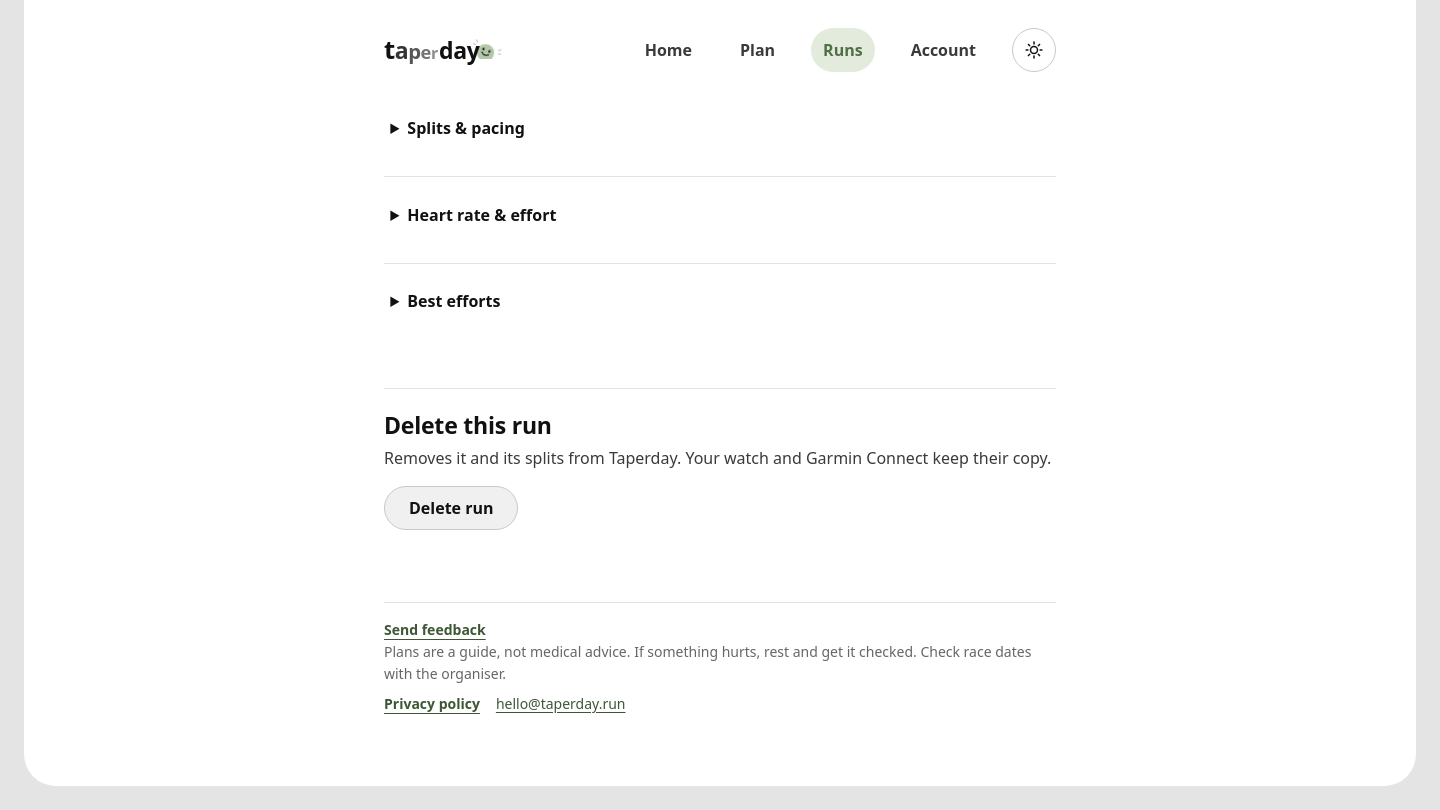
a run › can be deleted, back to the list
The width and height of the screenshot is (1440, 810).
(page scrolled)
Click the button "Delete run": (451, 508) [384,486,518,530]
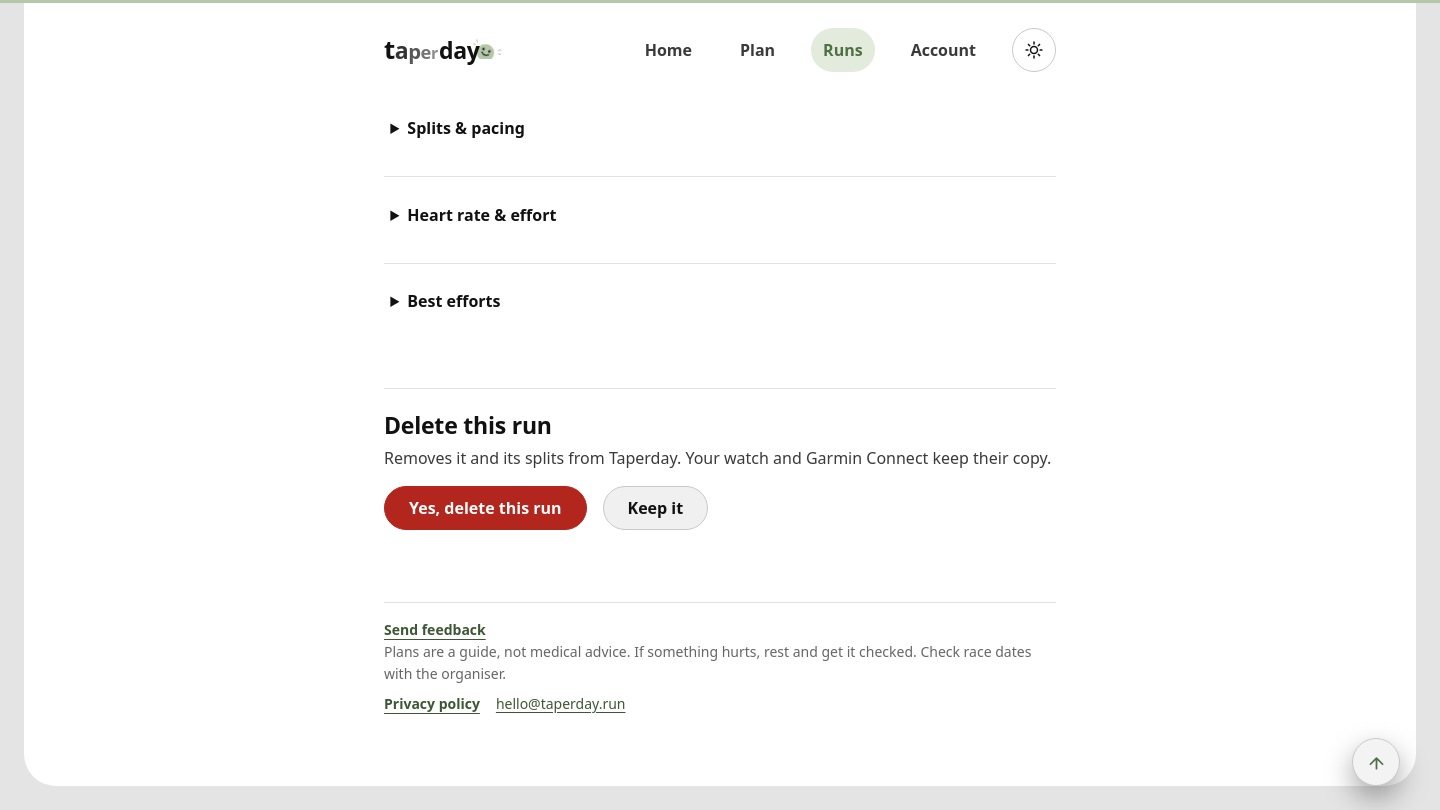
Click the button "Yes, delete this run": (485, 508) [384,486,586,530]
(page scrolled)
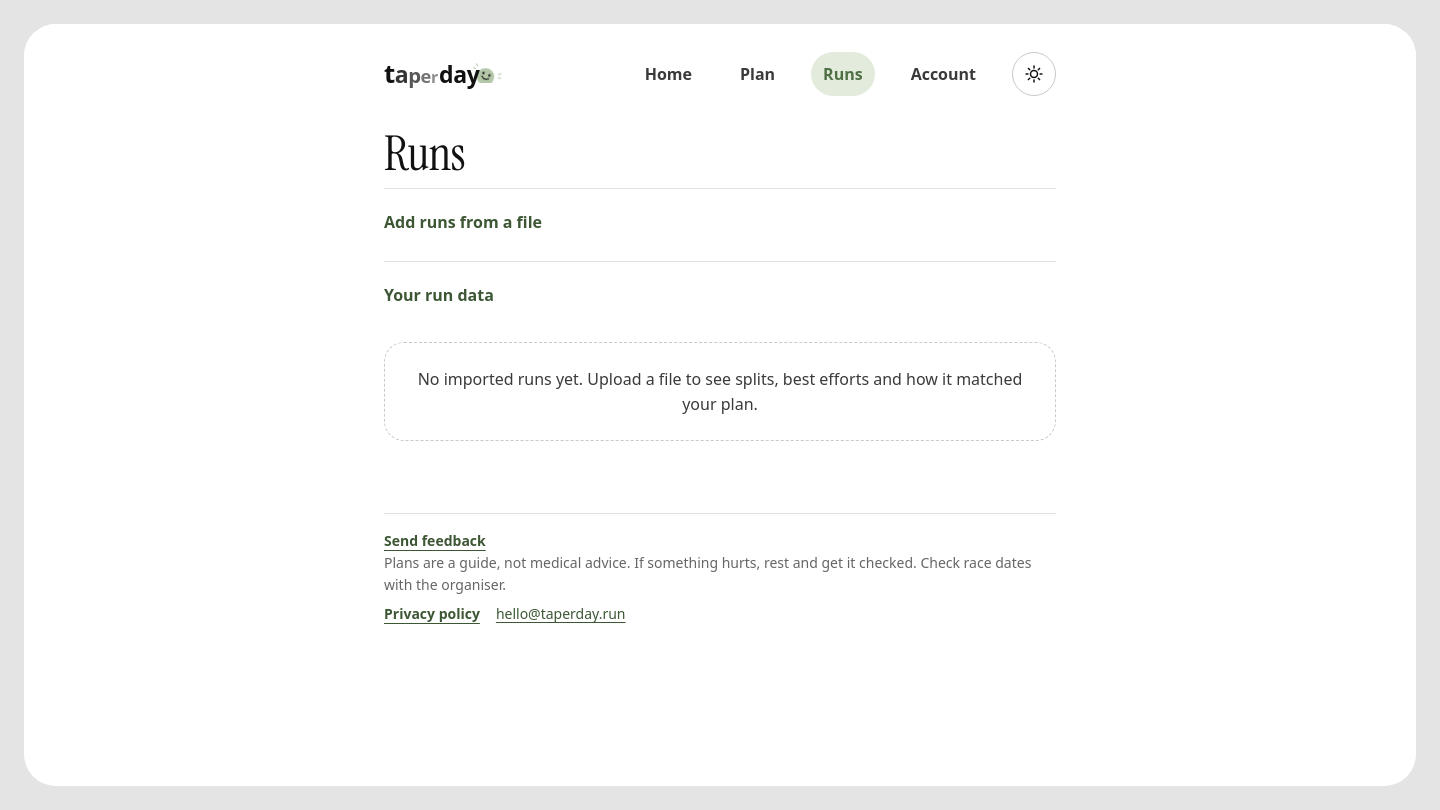
Expected: the text "No imported runs yet" is shown, [418,368,1022,415]
